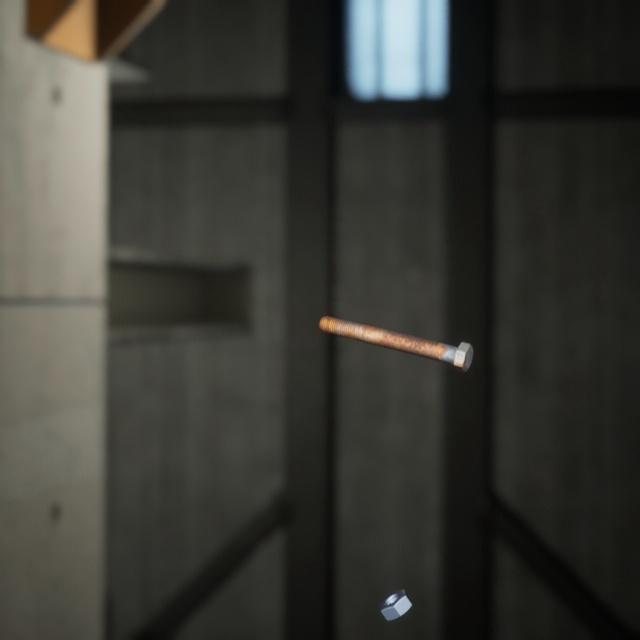bolt: (314, 294, 477, 359)
nut: (375, 562, 416, 602)
